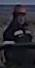helmet: (11, 5, 28, 17)
vest: (3, 23, 35, 67)
